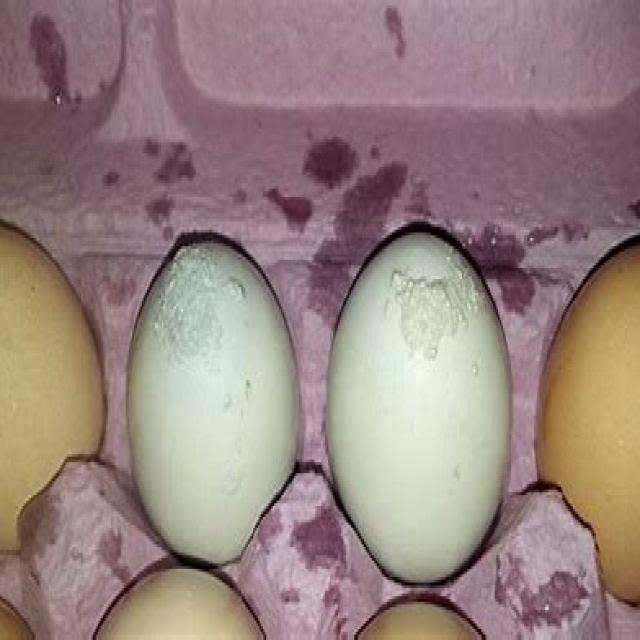Calcium Deposit Egg: (319, 185, 513, 595), (128, 218, 309, 581)
